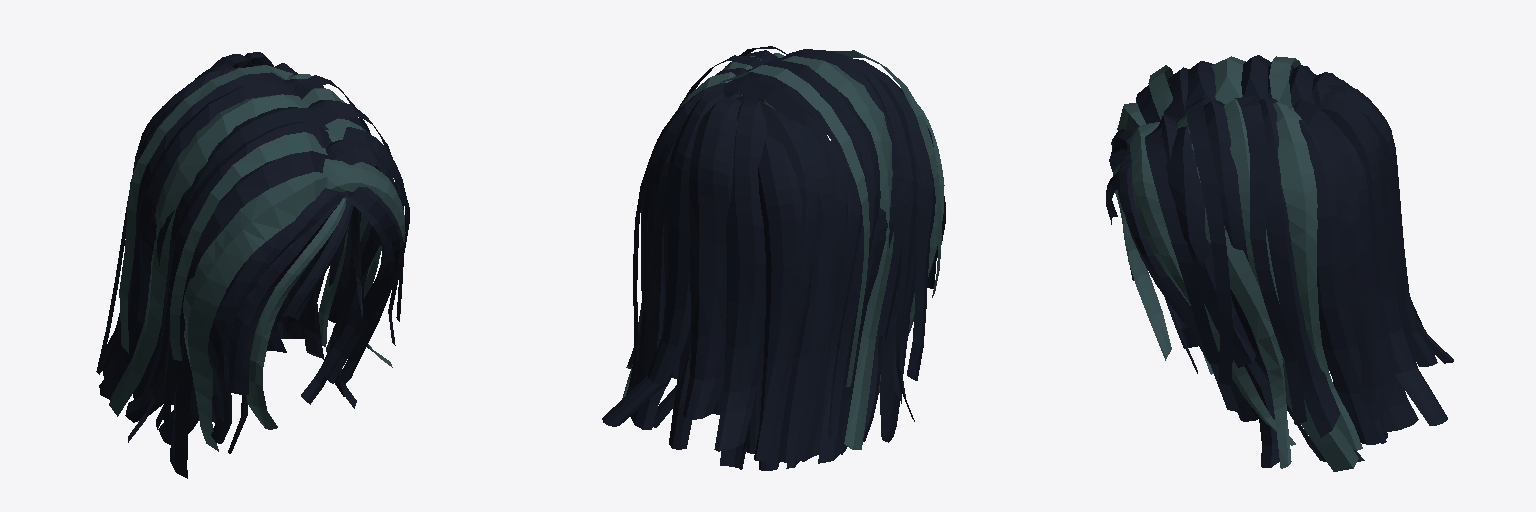
The model's file is hair01.obj.
The picture shows the model from 3 angles: view 1: azimuth 30°, elevation 25°; view 2: azimuth 150°, elevation 25°; view 3: azimuth 270°, elevation 25°; orthographic projection.
Visible parts, largest first — view 1: polySurface197; view 2: polySurface197; view 3: polySurface197.
Part boxes in pixels (left/top/right/bottom): polySurface197: left=96, top=52, right=409, bottom=478; polySurface197: left=602, top=46, right=945, bottom=470; polySurface197: left=1106, top=55, right=1453, bottom=471.
Bounding box in the file's own units: 0.3728 × 0.4825 × 0.4065.